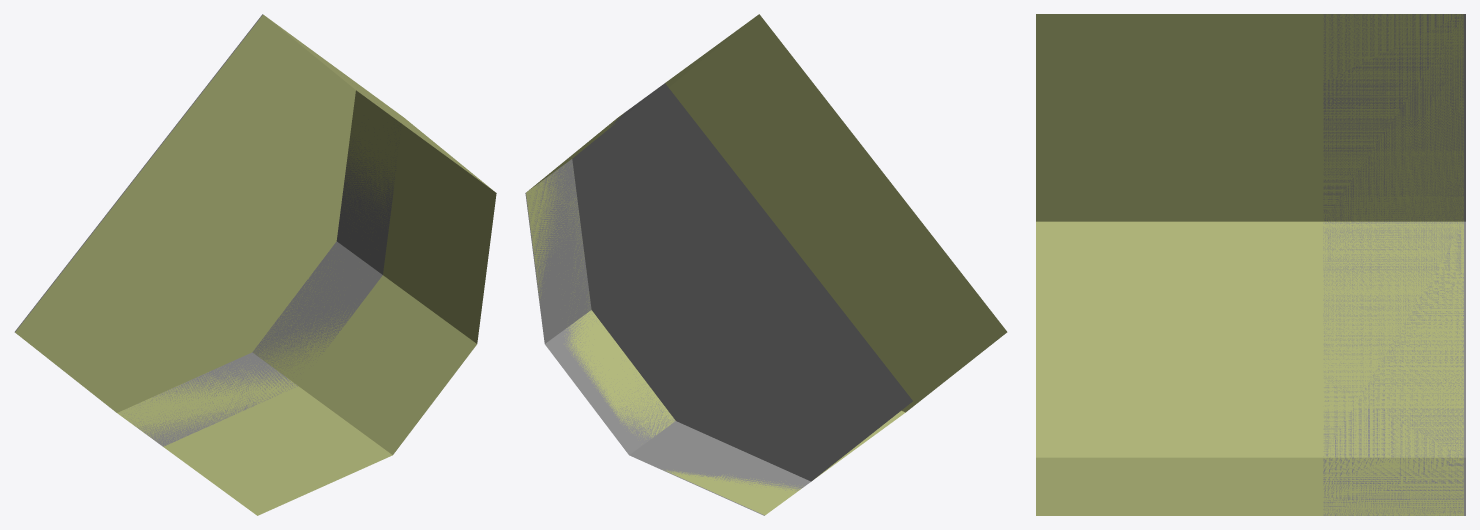
3 views of the same model, side by side, from view 1: azimuth 30°, elevation 25°; view 2: azimuth 150°, elevation 25°; view 3: azimuth 270°, elevation 25° (orthographic). The views are drawn at different scales.
Visible parts, largest first — view 1: 0_1_2_0_3_0_2_3_3_0; view 2: 0_1_2_0_3_0_2_3_3_0; view 3: 0_1_2_0_3_0_2_3_3_0.
Part boxes in pixels (x1,y1,x2,y2): 0_1_2_0_3_0_2_3_3_0: (14, 14, 496, 515); 0_1_2_0_3_0_2_3_3_0: (525, 14, 1007, 515); 0_1_2_0_3_0_2_3_3_0: (1036, 14, 1465, 515).
Size of the model in its own units: 12.6 by 12.82 by 9.04.
